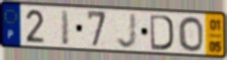2: (24, 8, 47, 44)
7: (86, 9, 108, 49)
D: (149, 13, 176, 52)
I: (59, 8, 71, 47)
J: (115, 12, 139, 50)
O: (177, 15, 205, 53)
